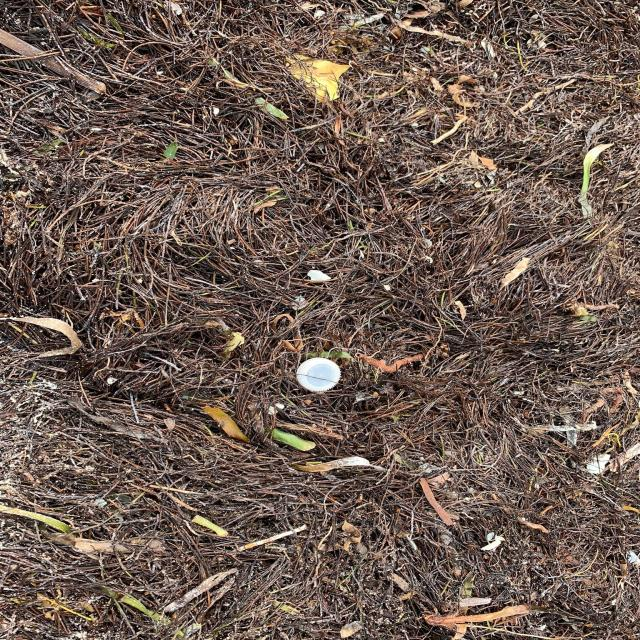litter: (285, 357, 345, 394)
